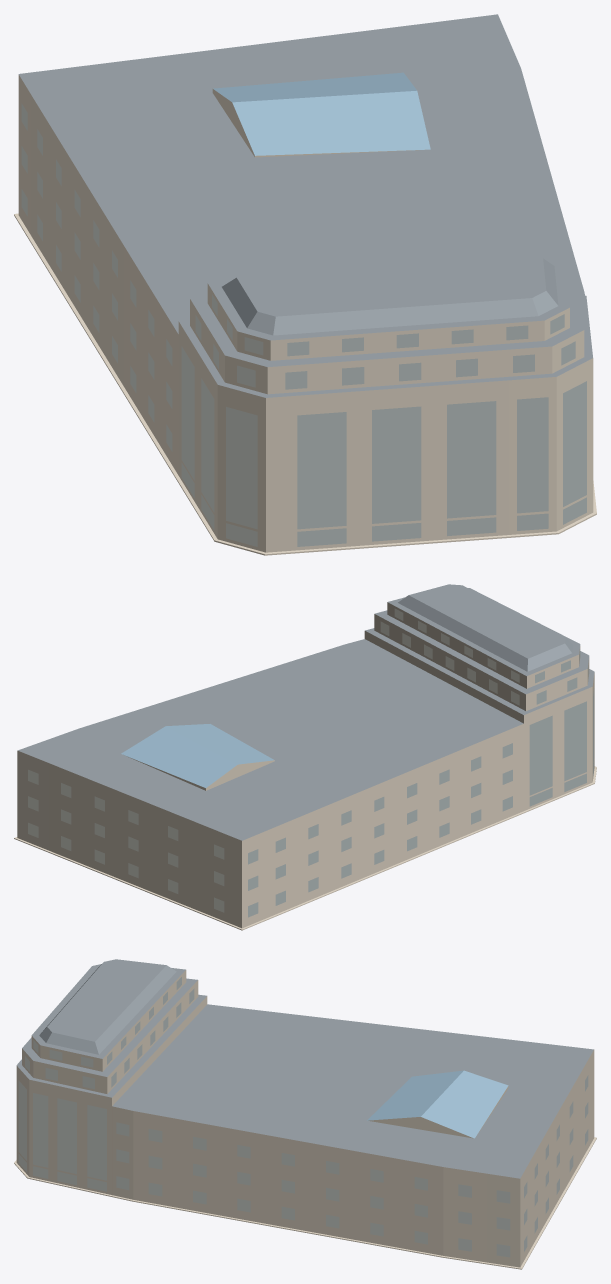
3 renders of one model, top to bottom at view 1: azimuth 30°, elevation 25°; view 2: azimuth 150°, elevation 25°; view 3: azimuth 270°, elevation 25°, orthographic. The views are drawn at different scales.
Parts seen in each view (by area): view 1: roof, stone, window, glass; view 2: roof, stone, window, glass; view 3: roof, stone, window, glass.
Boxes of the visible parts, box(x1,y1,x2,y2) form: roof: box(18, 14, 592, 397); stone: box(14, 75, 596, 555); window: box(21, 103, 586, 546); glass: box(213, 72, 430, 155); roof: box(18, 584, 594, 840); stone: box(14, 602, 596, 930); window: box(28, 608, 594, 917); glass: box(121, 724, 274, 787); roof: box(16, 959, 593, 1178); stone: box(14, 970, 596, 1269); window: box(18, 977, 588, 1257); glass: box(367, 1070, 508, 1138).
Size of the model in its own units: 94.32 by 32 by 124.
